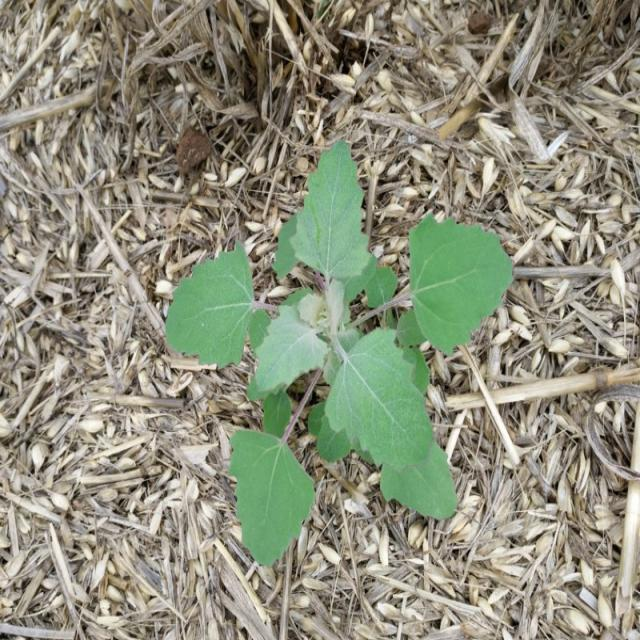goosefoots: (148, 133, 502, 559)
